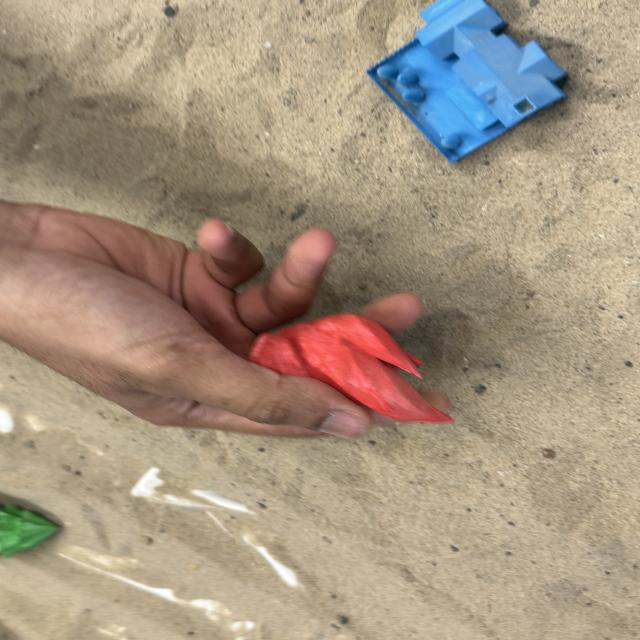fire: (254, 311, 454, 427)
house: (365, 0, 569, 164)
tree: (0, 495, 59, 555)
